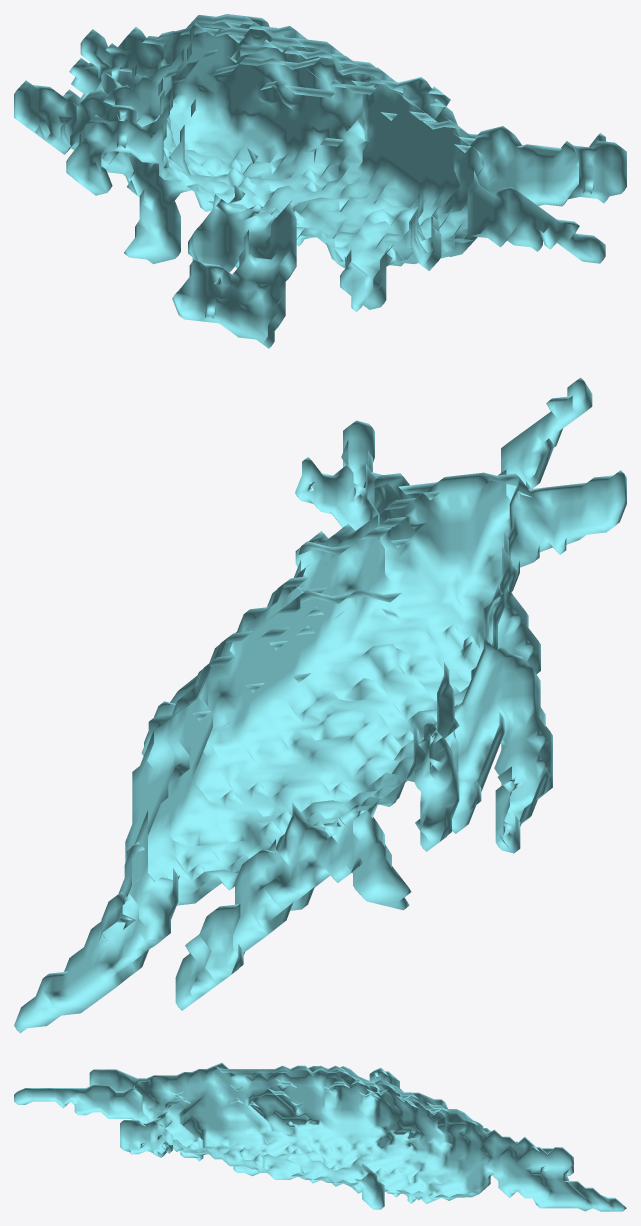
Rendered from osteocyte_26.glb.
3 renders of one model, top to bottom at view 1: azimuth 30°, elevation 25°; view 2: azimuth 150°, elevation 25°; view 3: azimuth 270°, elevation 25°, orthographic. The views are drawn at different scales.
Parts seen in each view (by area): view 1: osteocyte_26; view 2: osteocyte_26; view 3: osteocyte_26.
Part boxes in pixels (left/top/right/bottom): osteocyte_26: left=14, top=14, right=626, bottom=348; osteocyte_26: left=14, top=377, right=626, bottom=1033; osteocyte_26: left=14, top=1062, right=626, bottom=1211.
Size of the model in its own units: 13.41 by 8.05 by 36.22.
